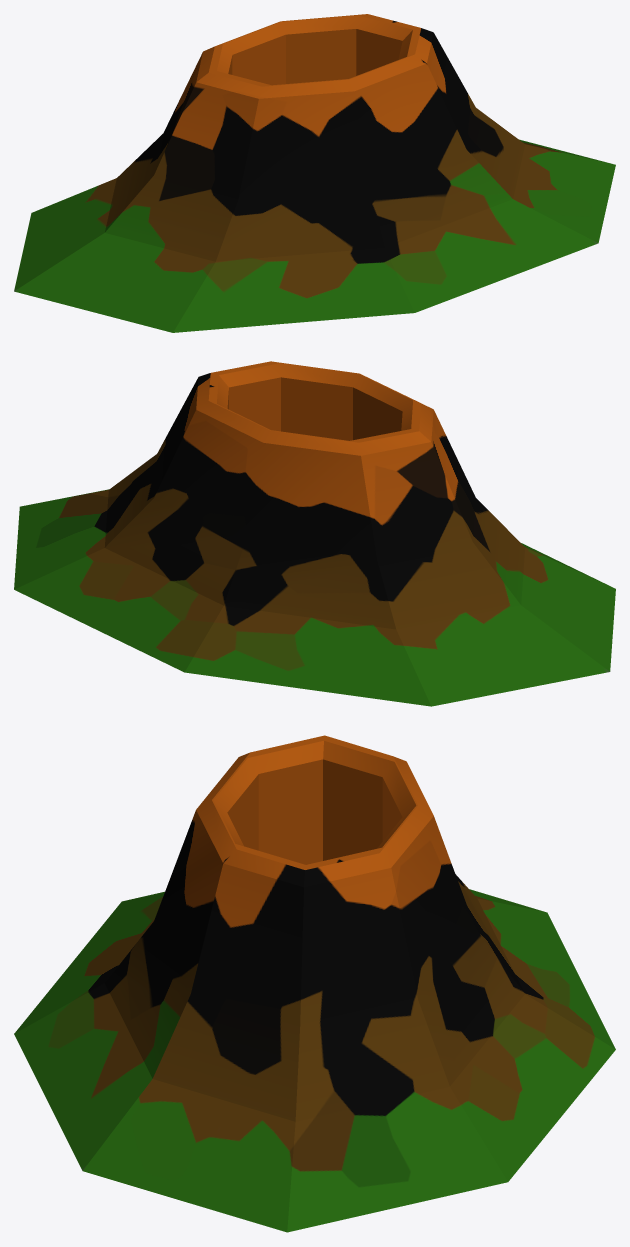
File: volcano.fbx
3 views of the same model, one above another, from view 1: azimuth 30°, elevation 25°; view 2: azimuth 150°, elevation 25°; view 3: azimuth 270°, elevation 25° (orthographic). The views are drawn at different scales.
Visible parts, largest first — view 1: volcano; view 2: volcano; view 3: volcano.
Part boxes in pixels (x1,y1,x2,y2): volcano: (14,14,615,332); volcano: (14,361,615,706); volcano: (14,735,615,1232).
Size of the model in its own units: 8686 by 2539 by 5795.
